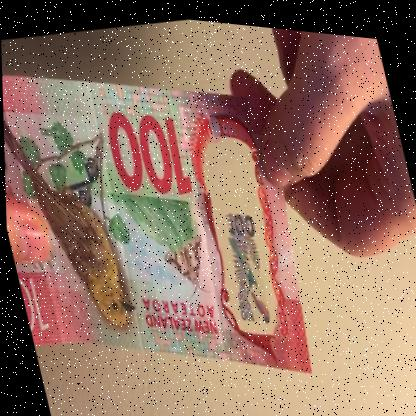100B: (204, 166, 279, 327)
